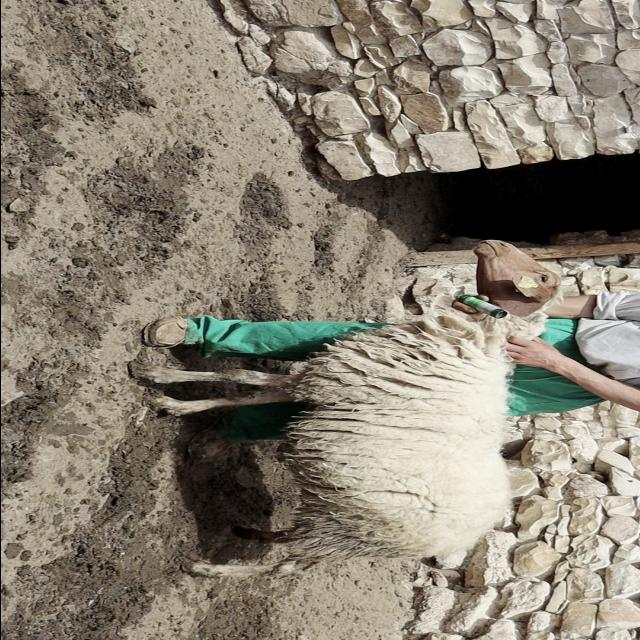Score_3: (132, 240, 561, 578), (153, 393, 285, 415)
